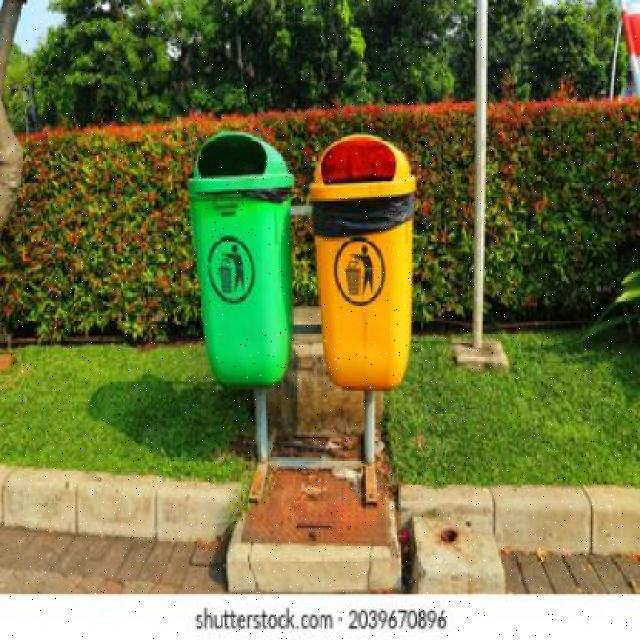garbage container: (298, 119, 429, 407), (184, 123, 299, 405)
